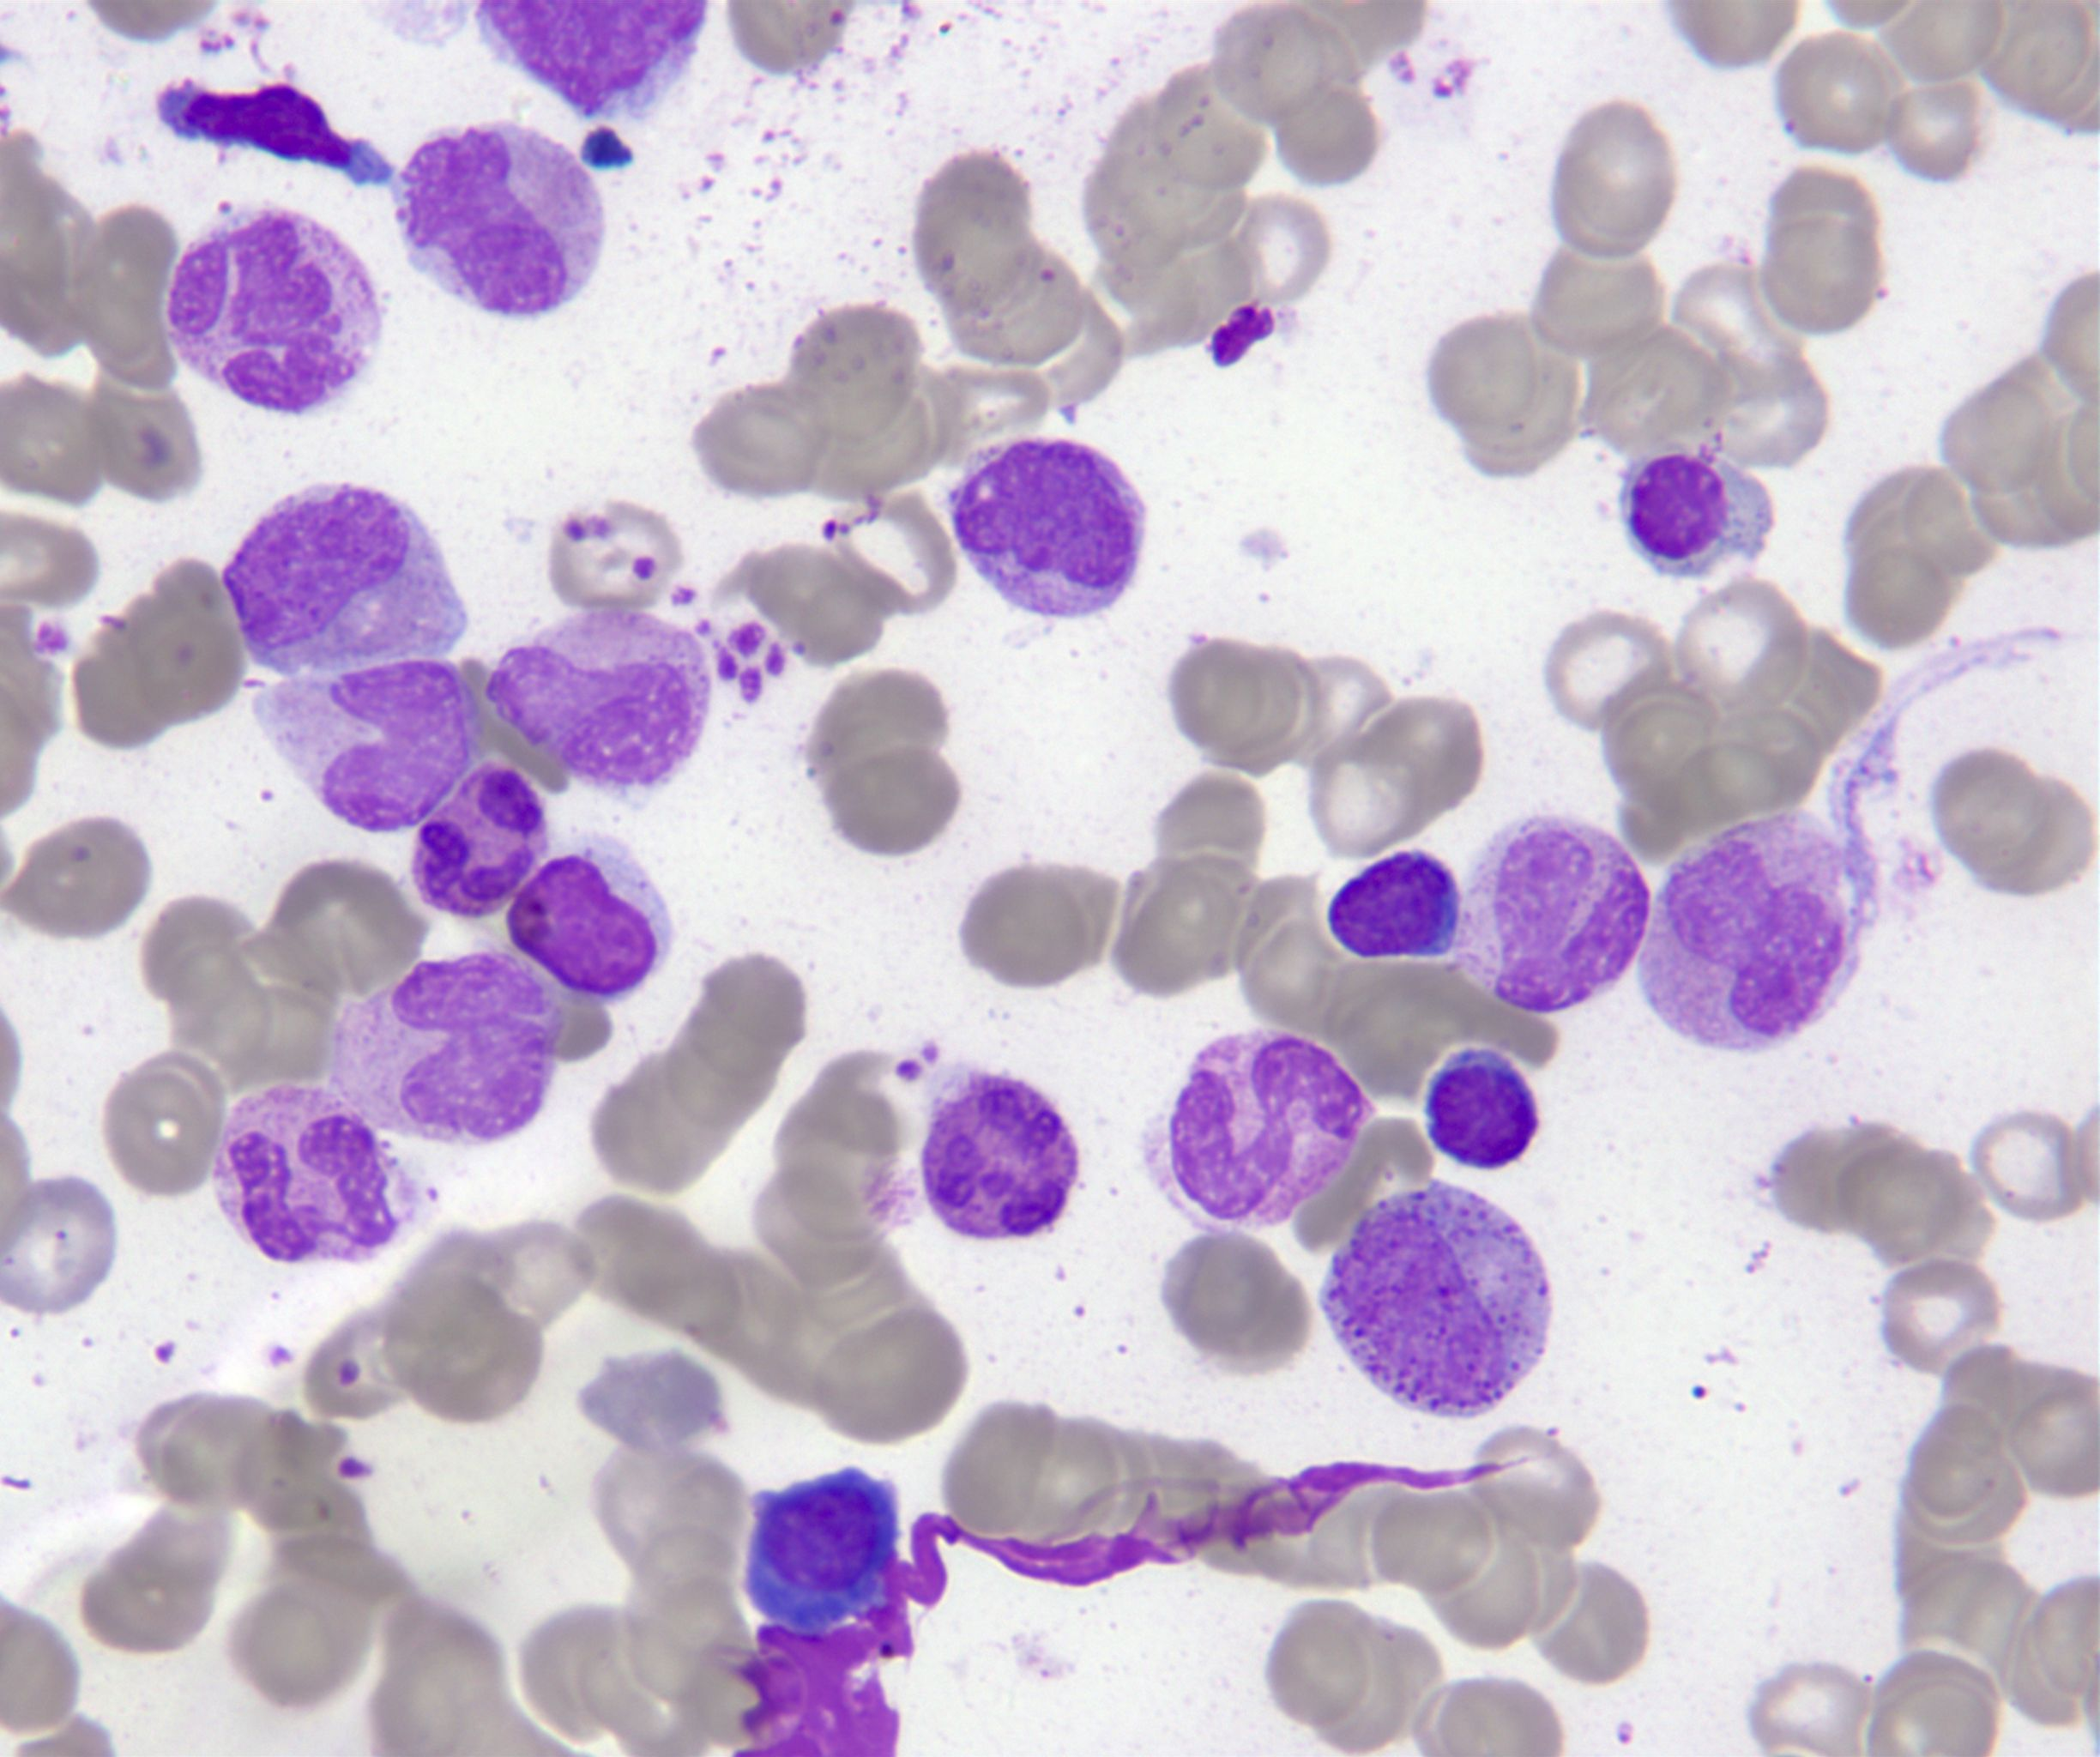2: (1317, 1179, 1551, 1417)
23: (743, 1466, 897, 1638)
24: (1620, 441, 1774, 578)
32: (506, 831, 673, 1003), (155, 79, 392, 183), (1326, 850, 1462, 960), (1425, 1049, 1538, 1169)
4: (1640, 815, 1865, 1050), (223, 483, 467, 672), (394, 122, 603, 316), (487, 612, 708, 794), (255, 660, 471, 831), (945, 438, 1144, 616)
5: (1146, 1029, 1380, 1234), (1453, 815, 1648, 1014)
6: (167, 208, 382, 414), (211, 1085, 436, 1263), (919, 1073, 1076, 1241), (412, 762, 546, 916)
x: (331, 956, 562, 1143)
